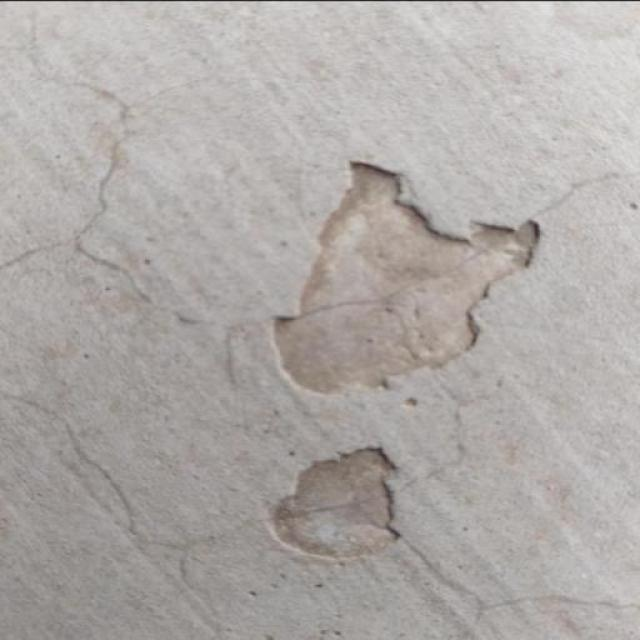D10: (272, 159, 541, 395), (270, 444, 399, 562)
